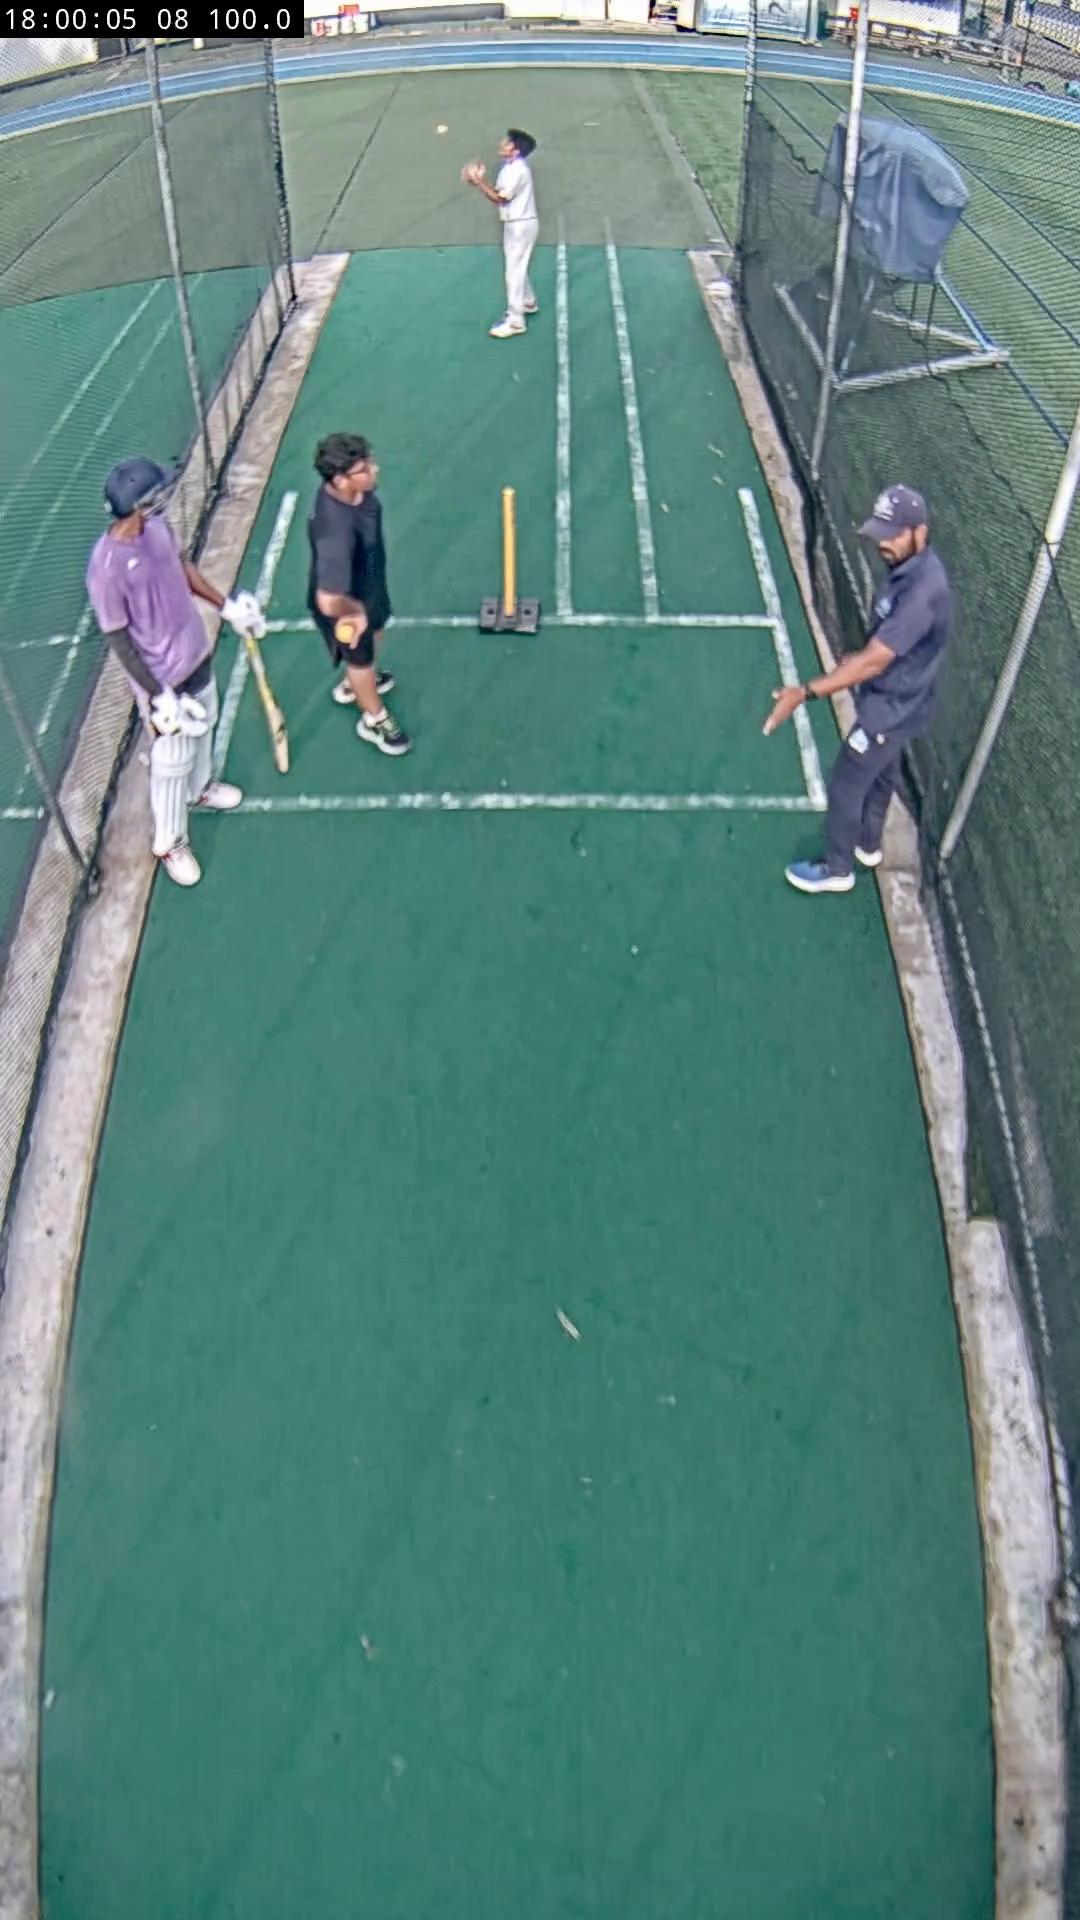ball: (334, 618, 360, 647)
stumps: (480, 488, 541, 634)
